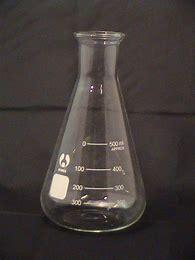Titrarion: (31, 21, 146, 230)
